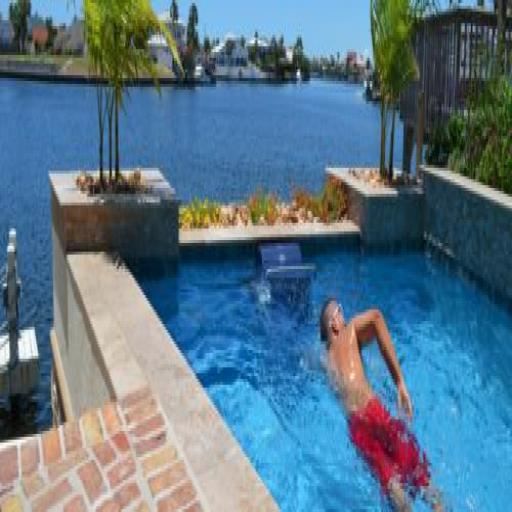swimming: (316, 292, 446, 509)
